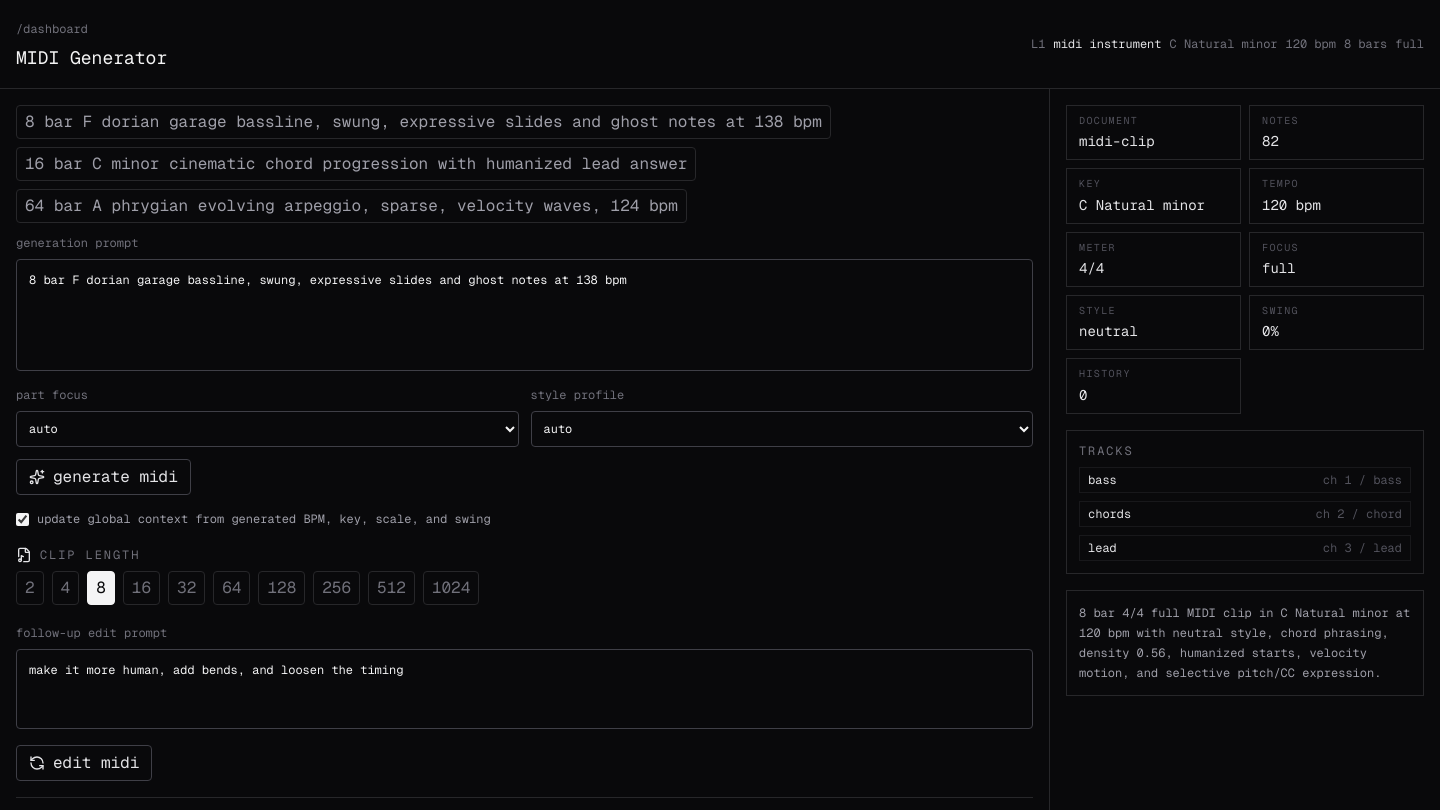
Test: MidiGeneratorClient › uses part focus and abstract style profile controls for generated MIDI
The width and height of the screenshot is (1440, 810).
Select "harmony" in the dropdown labelled "part focus". click: (267, 429)
box: [16,411,518,447]
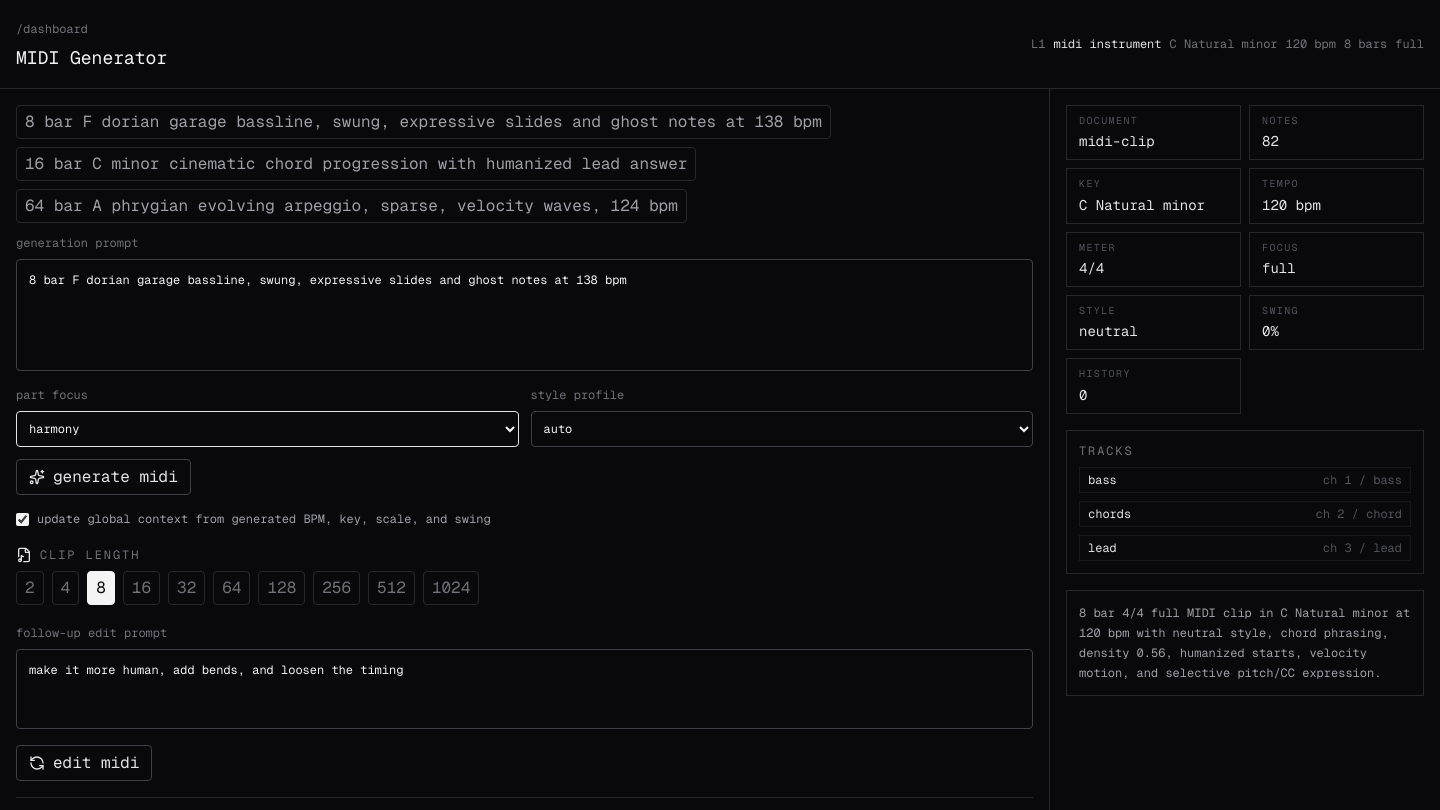
Select "spacious pointillist" in the dropdown labelled "style profile". click: (782, 429)
box: [530,411,1033,447]
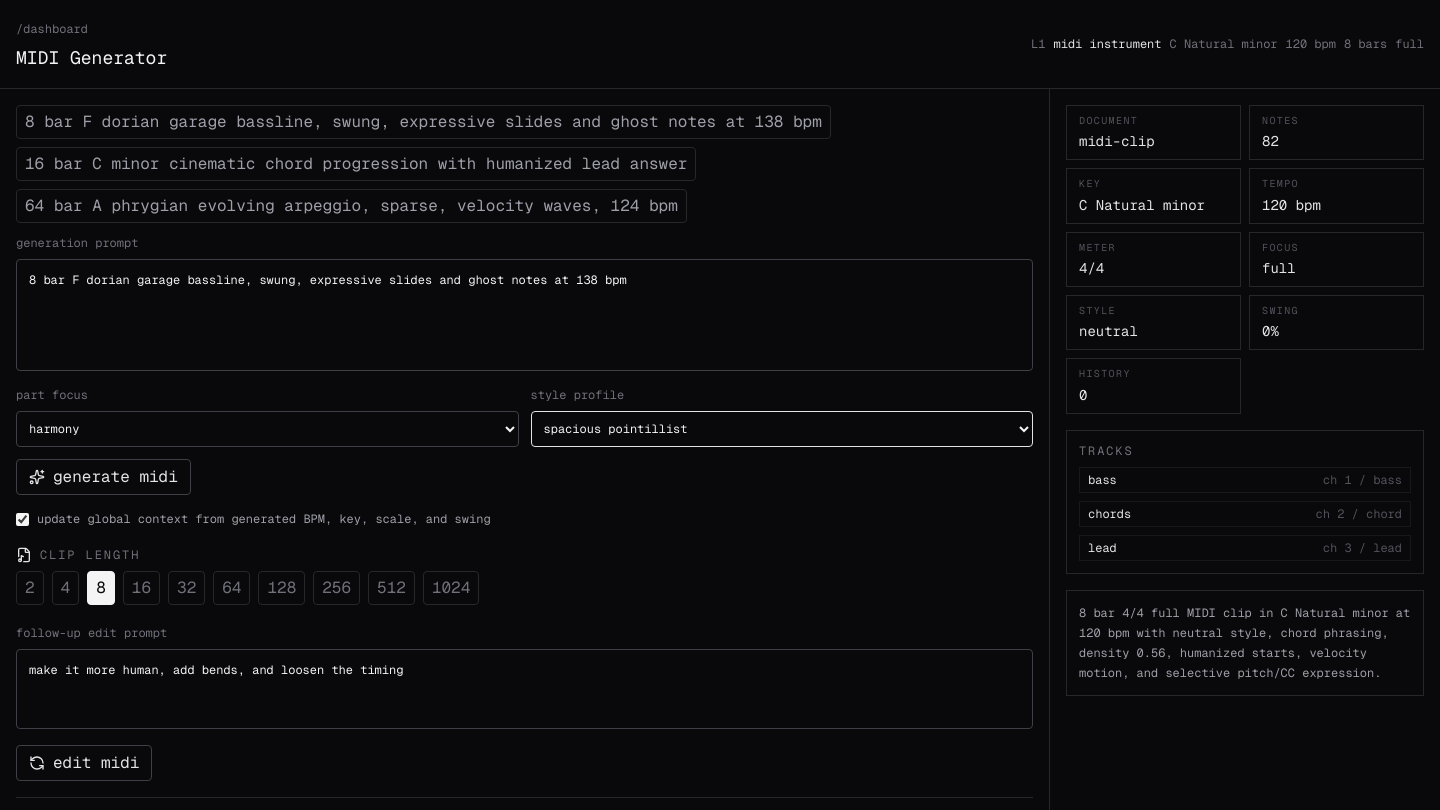
Replace the text in the text box labelled "generation prompt" with "4 bar quiet floating fragments with transparent voicings". click: (524, 315)
box: [16,259,1033,371]
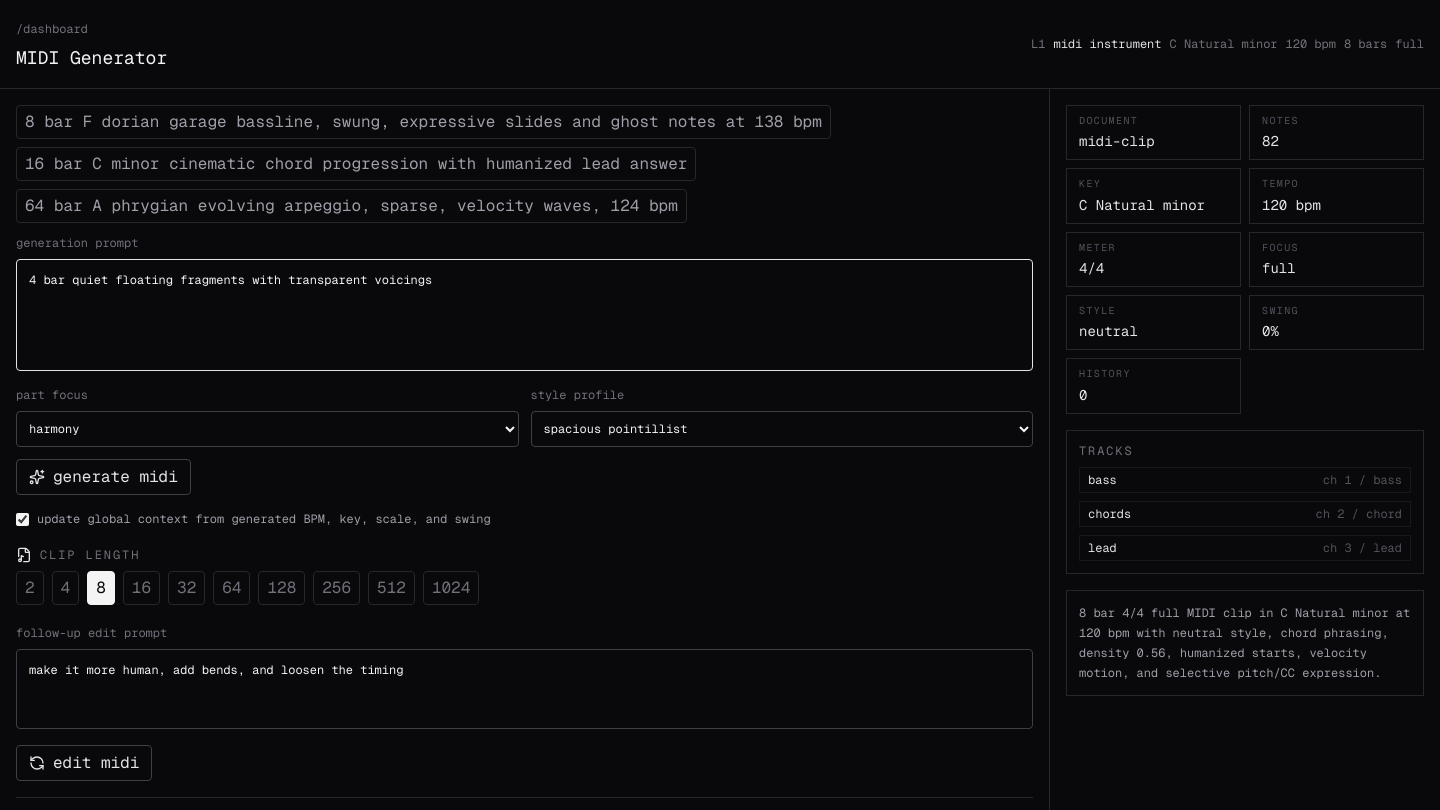
Click the button "generate midi". click: (103, 477)
box: [16,459,191,495]
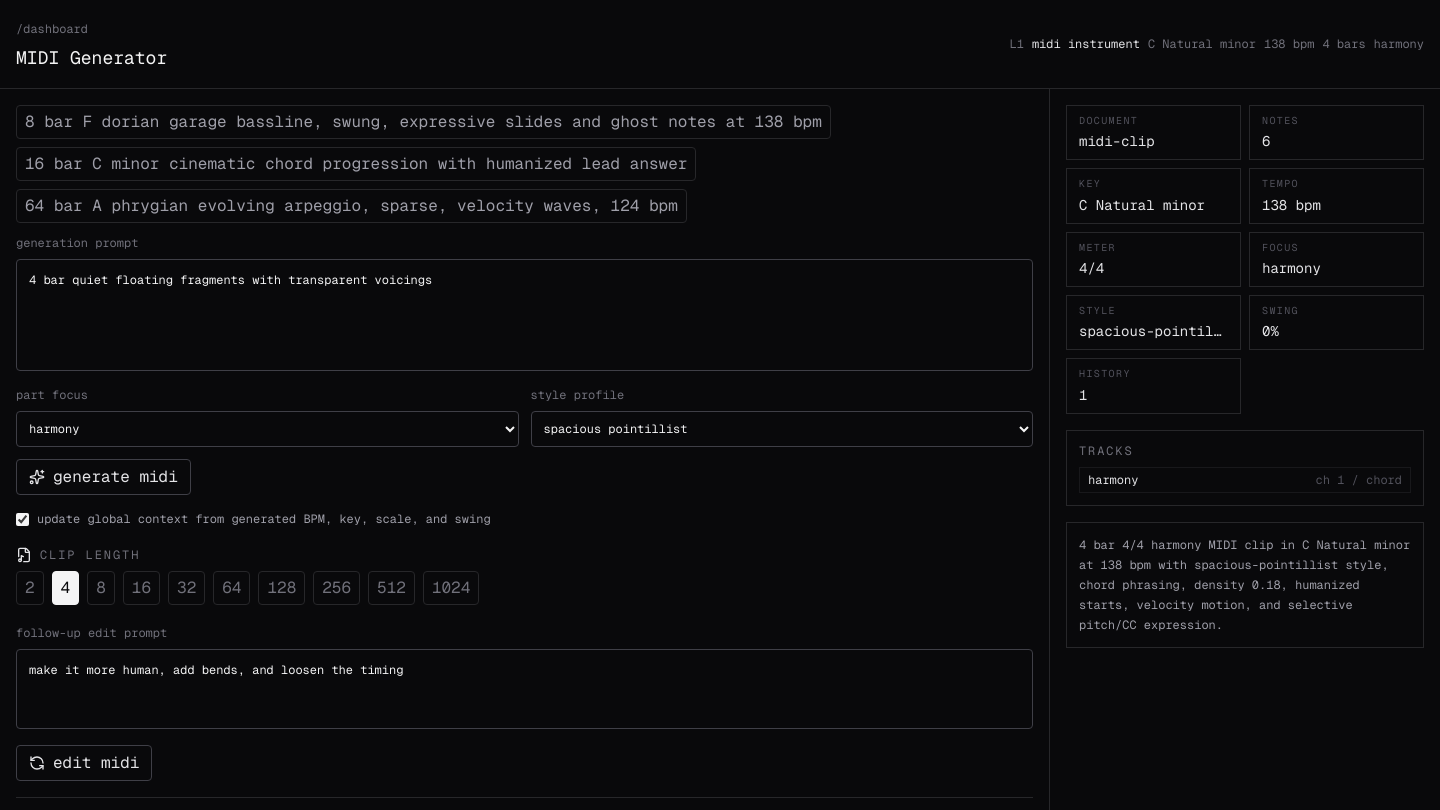
Expected: the text "spacious-pointillist" is shown, [1079,321,1228,341]
Expected: the text "ch 1 / chord" is shown, [1316,472,1402,488]
Expected: the text "/ lead" is gone
